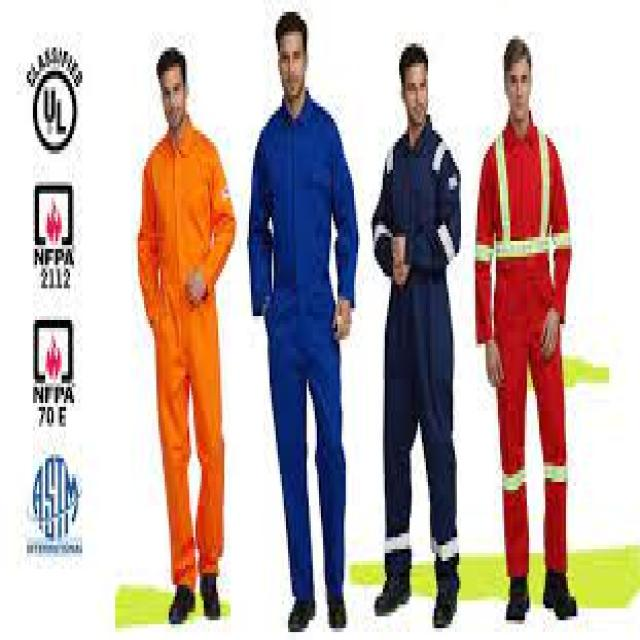vest: (248, 94, 360, 597), (136, 123, 236, 587), (475, 123, 572, 571), (373, 118, 463, 560)
